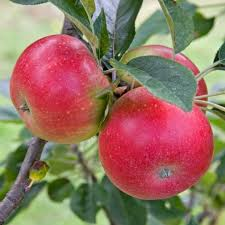obscured(0)_apple: (99, 86, 215, 202), (10, 33, 110, 144)
